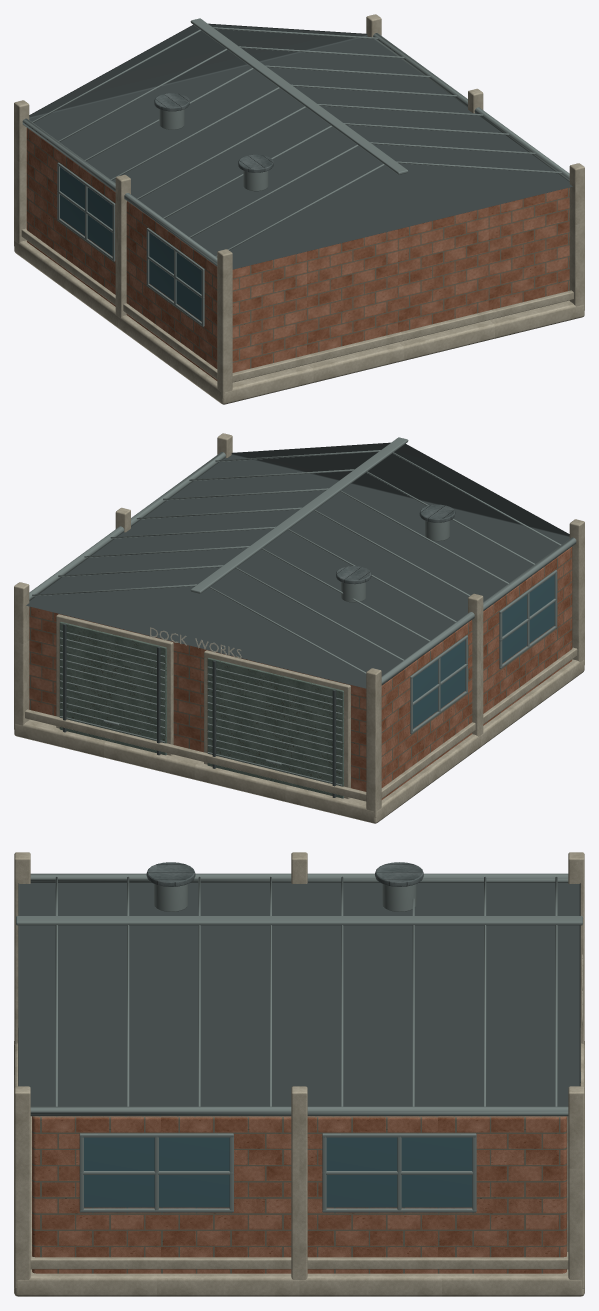
Rendered from service-workshop.glb.
3 views of the same model, one above another, from view 1: azimuth 30°, elevation 25°; view 2: azimuth 150°, elevation 25°; view 3: azimuth 270°, elevation 25° (orthographic). The views are drawn at different scales.
Parts seen in each view (by area): view 1: ServiceWorkshop_Geometry; view 2: ServiceWorkshop_Geometry; view 3: ServiceWorkshop_Geometry.
Boxes of the visible parts, x1,y1,x2,y2 form: ServiceWorkshop_Geometry: (14,14,584,404); ServiceWorkshop_Geometry: (14,433,584,823); ServiceWorkshop_Geometry: (14,852,584,1296).
Bounding box in the file's own units: 8 × 4 × 8.
Materials: 8 (4 with a texture image).
